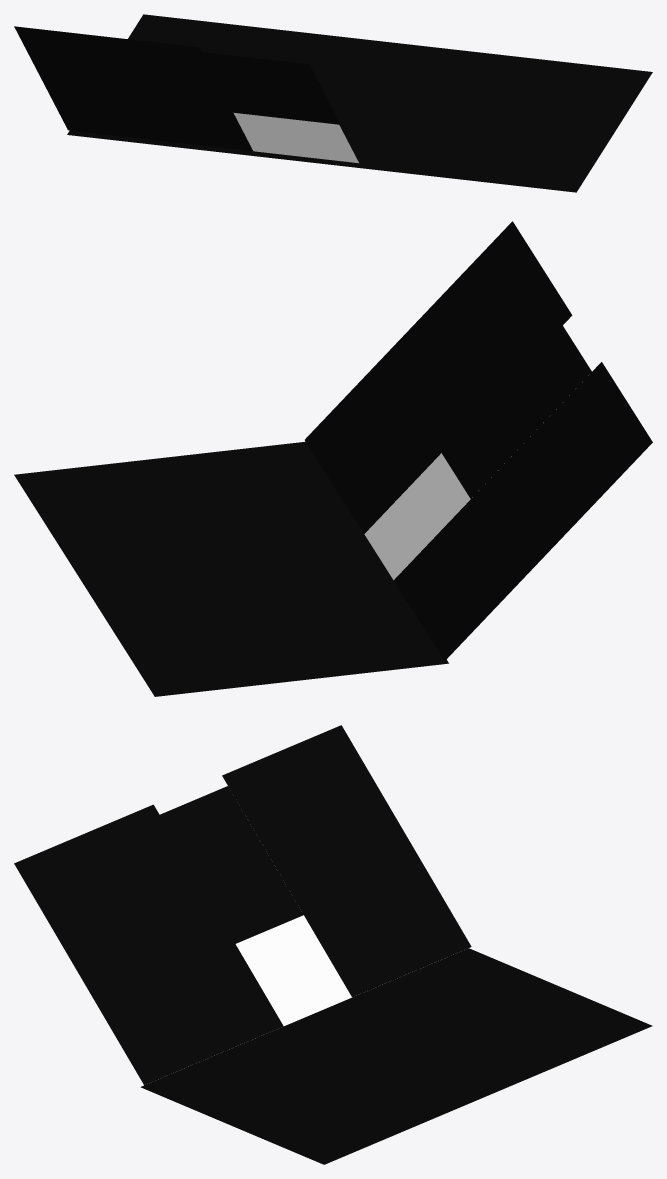
File: Gradient Silhouette.fbx
The picture shows the model from 3 angles, top to bottom: view 1: azimuth 30°, elevation 25°; view 2: azimuth 150°, elevation 25°; view 3: azimuth 270°, elevation 25°; orthographic projection. The views are drawn at different scales.
Visible parts, largest first — view 1: Gradient (7), Gradient (5), Gradient (6), Gradient (3); view 2: Gradient (7), Gradient (4), Gradient (5), Gradient (6), Gradient (3); view 3: Gradient (7), Gradient (4), Gradient (5), Gradient (6), Gradient (3).
Boxes of the visible parts, left/top/right/bottom form: Gradient (7): left=67, top=14, right=652, bottom=192; Gradient (5): left=14, top=26, right=252, bottom=151; Gradient (6): left=202, top=52, right=340, bottom=124; Gradient (3): left=233, top=112, right=358, bottom=163; Gradient (7): left=14, top=441, right=448, bottom=696; Gradient (4): left=305, top=221, right=572, bottom=533; Gradient (5): left=393, top=362, right=652, bottom=660; Gradient (6): left=442, top=326, right=591, bottom=498; Gradient (3): left=364, top=453, right=470, bottom=580; Gradient (7): left=140, top=948, right=652, bottom=1164; Gradient (4): left=14, top=804, right=283, bottom=1085; Gradient (5): left=222, top=725, right=471, bottom=997; Gradient (6): left=160, top=786, right=303, bottom=943; Gradient (3): left=235, top=915, right=351, bottom=1025.
Bounding box in the file's own units: 190 × 55.32 × 189.
Materials: 2 (1 with a texture image).
